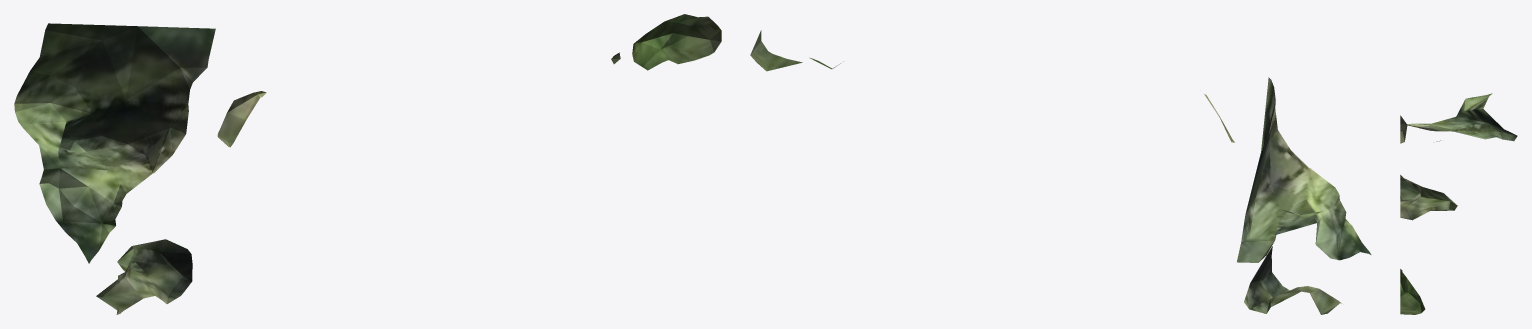
3 renders of one model, left to right at view 1: azimuth 30°, elevation 25°; view 2: azimuth 150°, elevation 25°; view 3: azimuth 270°, elevation 25°, orthographic. The views are drawn at different scales.
Bounding box in the file's own units: 23.43 × 9.57 × 5.74.
Materials: 1 (1 with a texture image).
